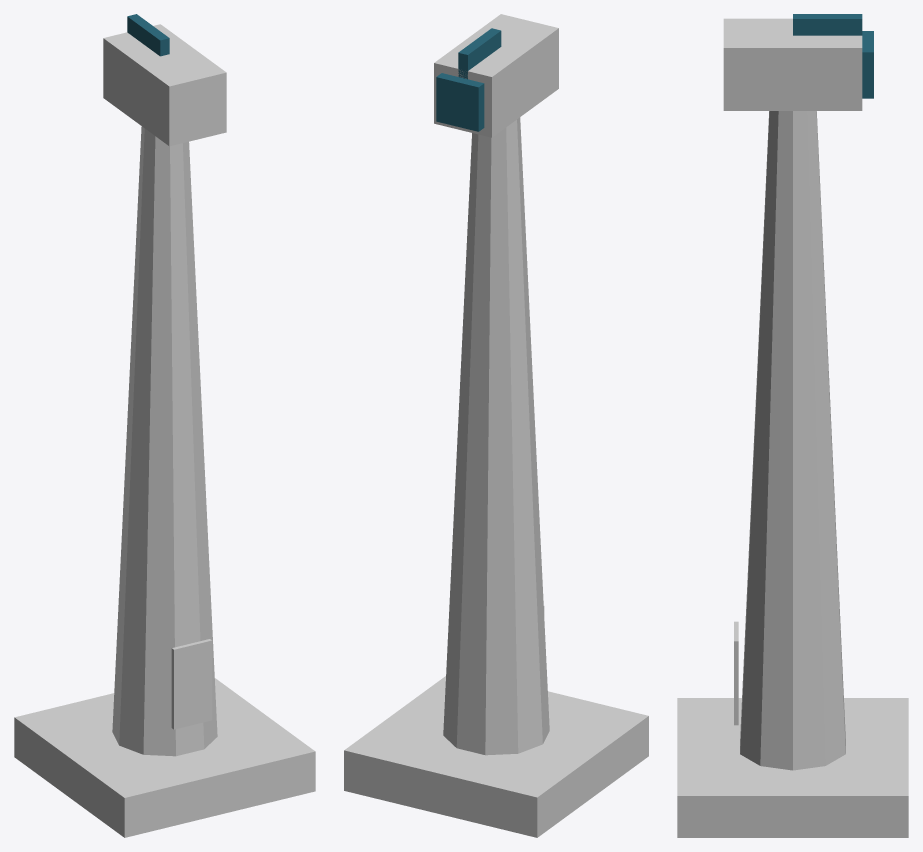
Rendered from decor_windmill.obj.
The picture shows the model from 3 angles, left to right: view 1: azimuth 30°, elevation 25°; view 2: azimuth 150°, elevation 25°; view 3: azimuth 270°, elevation 25°; orthographic projection. The views are drawn at different scales.
Visible parts, largest first — view 1: Body; view 2: Body; view 3: Body.
Boxes of the visible parts, x1,y1,x2,y2 form: Body: (14,14,315,837); Body: (344,14,648,837); Body: (677,14,908,837).
Bounding box in the file's own units: 1 × 3.68 × 1.
